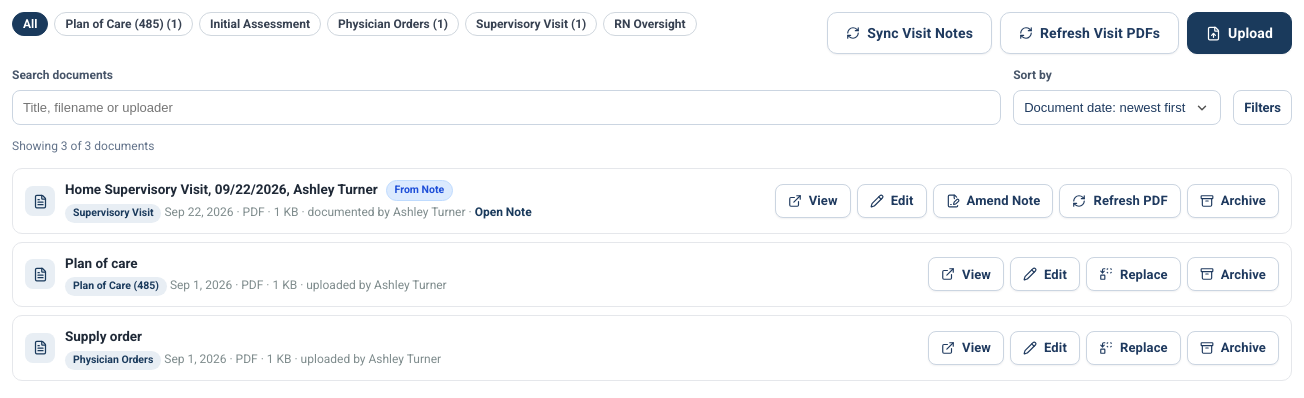
Document filters and sorting › combines category selections, searches filenames, and clears back to the default
The width and height of the screenshot is (1304, 398).
Click the button "Supervisory Visit (1)": (531, 24) [465, 12, 597, 36]
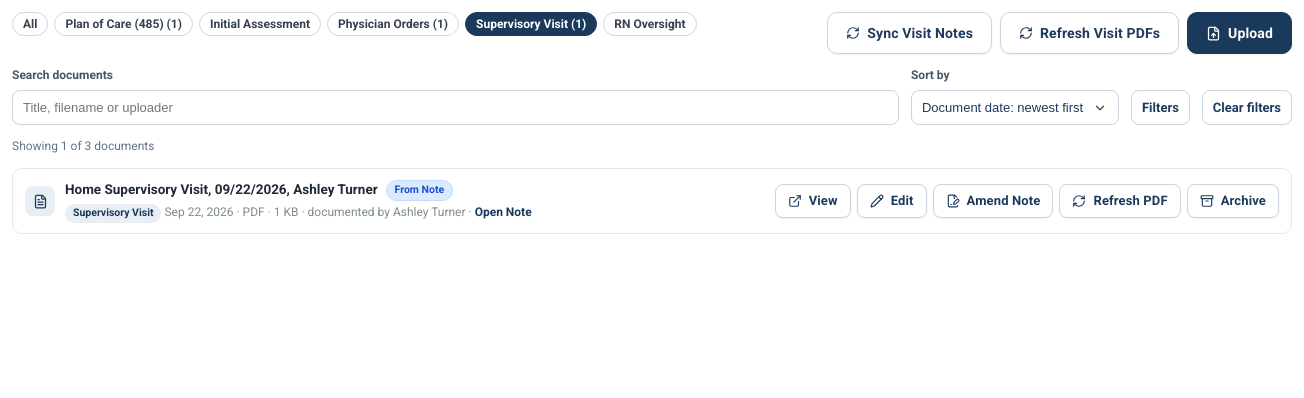
Now the number of list items is 1, box [12, 168, 1292, 234]
Click the button "Plan of Care (485) (1)": (124, 24) [54, 12, 193, 36]
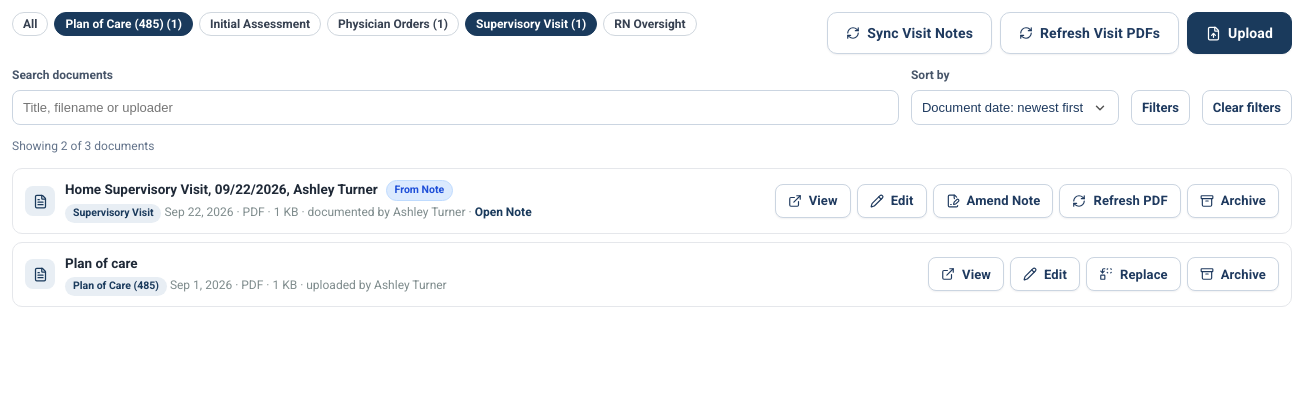
Now the number of list items is 2, box [12, 168, 1292, 234]; [12, 242, 1292, 307]
Click the button "All": (30, 24) [12, 12, 48, 36]
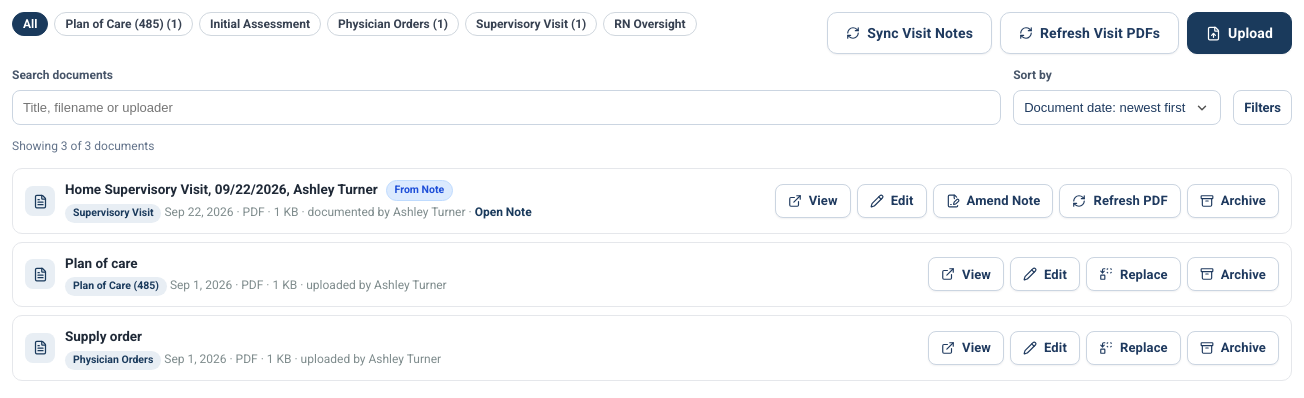
In the search field: (507, 108) [12, 90, 1001, 125], type "GLOVES"
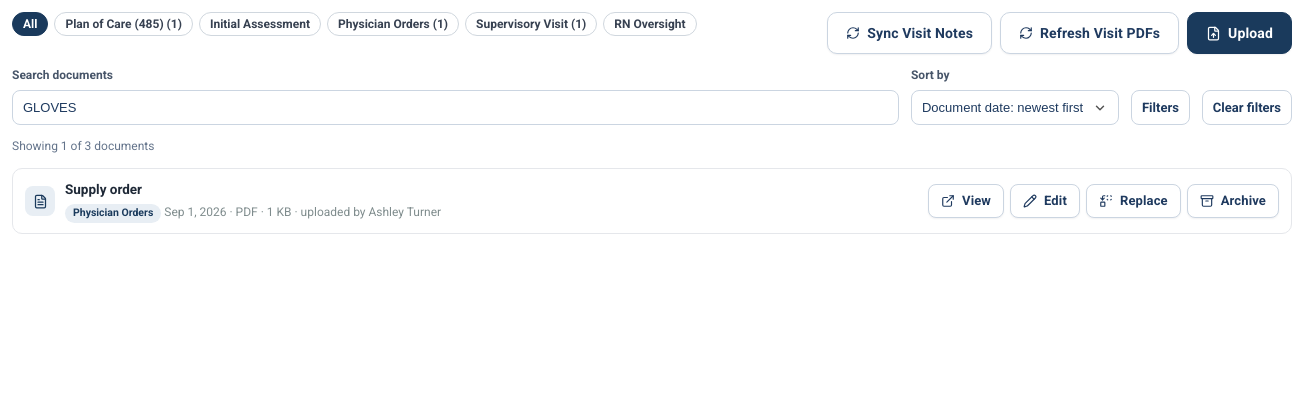
Now the text "Supply order" is shown, box [65, 181, 142, 197]
Now the number of list items is 1, box [12, 168, 1292, 234]
Click the button "Clear filters": (1247, 108) [1202, 90, 1292, 125]
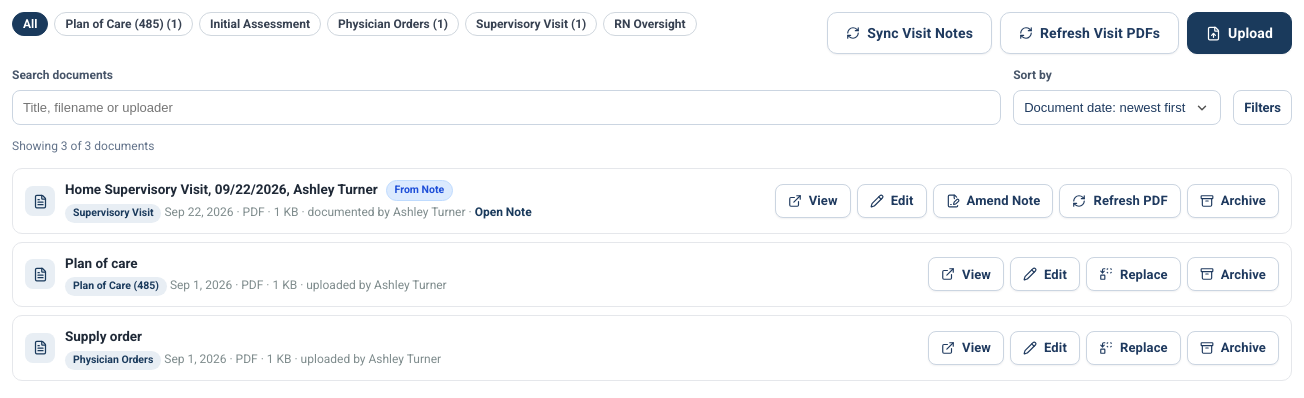
Now the number of list items is 3, box [12, 168, 1292, 234]; [12, 242, 1292, 307]; [12, 315, 1292, 381]
Now the message reads "Showing 3 of 3 documents", box [12, 139, 154, 153]
